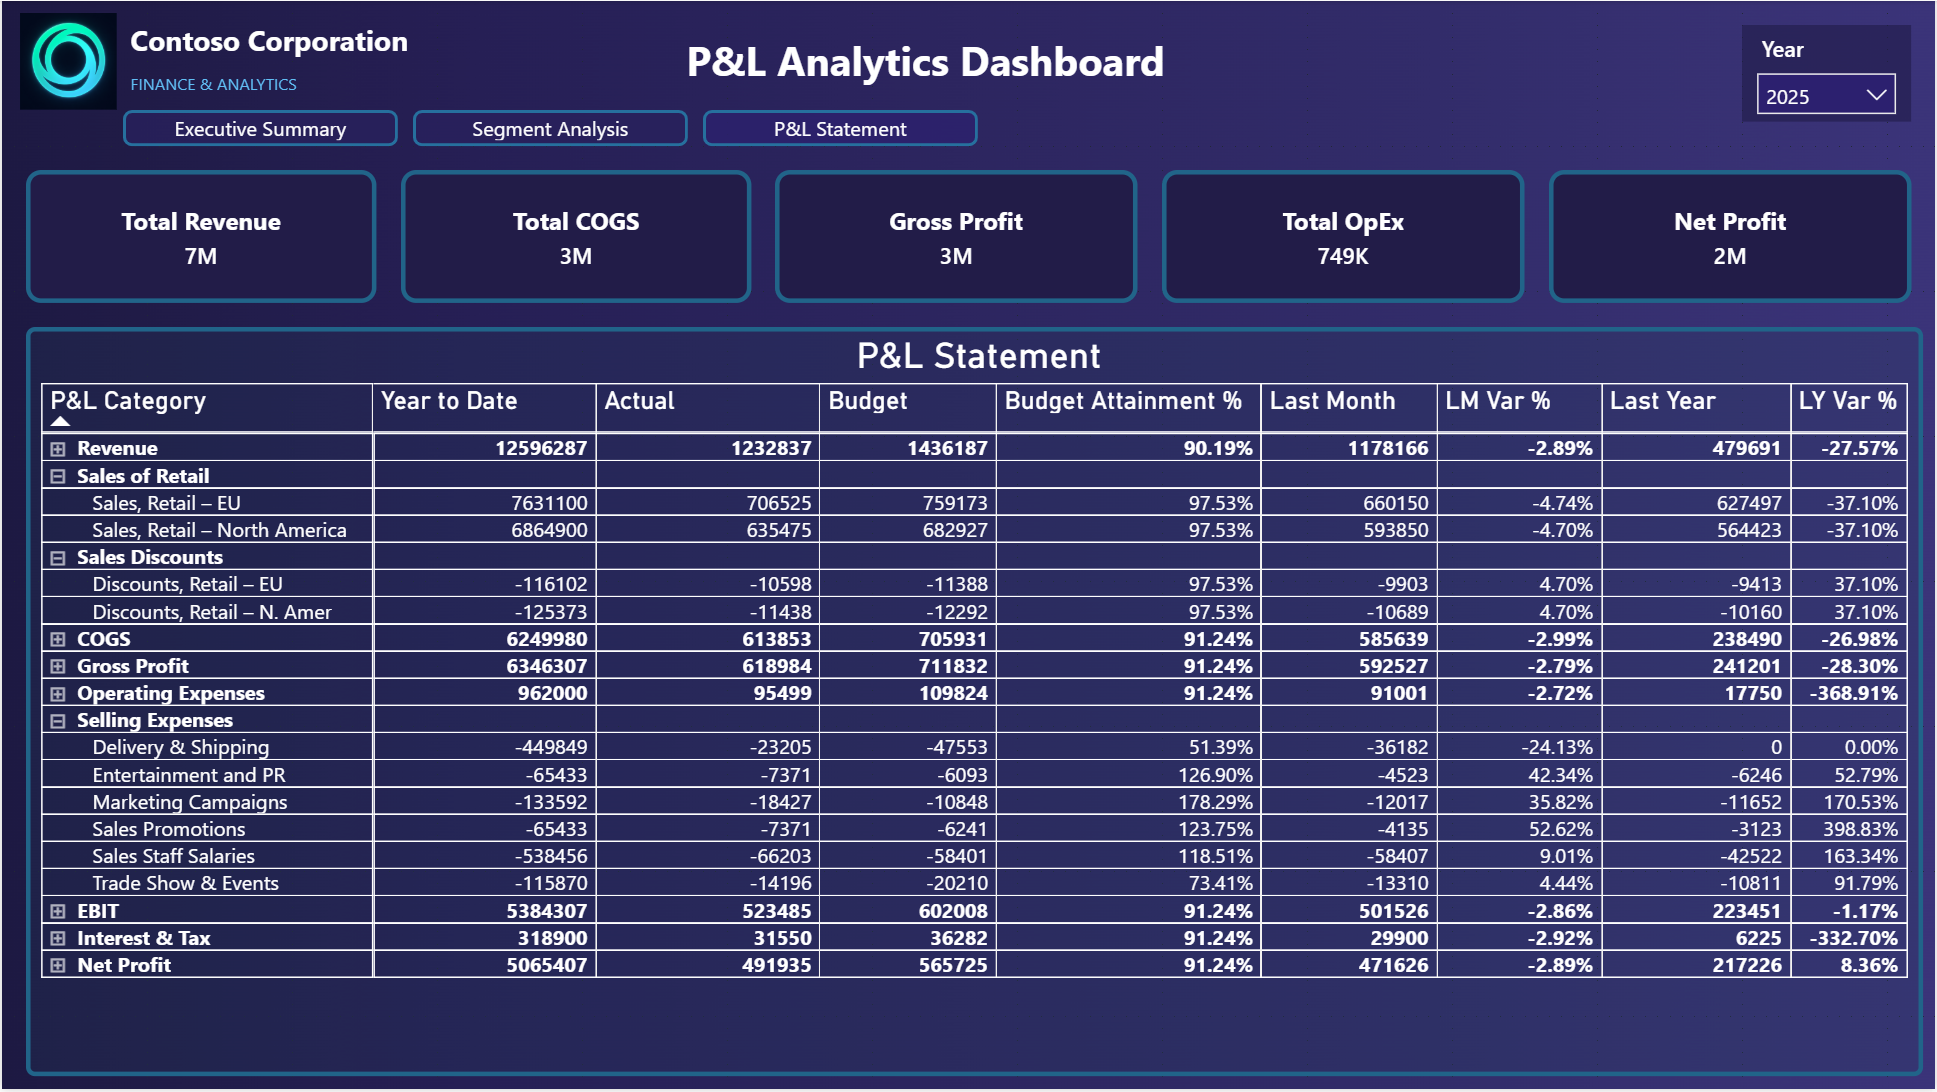

What the dashboard file says about the page in this screenshot:
{"tool":"powerbi","page":{"name":"P&L Statement","canvas":[1280,720],"ordinal":2},"visuals":[{"type":"slicer","fields":{"Values":["Monthly_PL.Year"]},"box":[1152,16,112,64],"z":0},{"type":"cardVisual","title":"Revenue","fields":{"Data":["_Measures.Total Revenue"]},"box":[16,112,232,88],"z":0},{"type":"cardVisual","title":"Revenue","fields":{"Data":["_Measures.Total COGS"]},"box":[264,112,232,88],"z":1000},{"type":"cardVisual","title":"Revenue","fields":{"Data":["_Measures.Gross Profit"]},"box":[512,112,240,88],"z":2000},{"type":"cardVisual","title":"Revenue","fields":{"Data":["_Measures.Total OpEx"]},"box":[768,112,240,88],"z":3000},{"type":"cardVisual","title":"Revenue","fields":{"Data":["_Measures.Net Profit"]},"box":[1024,112,240,88],"z":4000},{"type":"textbox","box":[448,16,336,48],"z":6000},{"type":"textbox","box":[80,8,216,40],"z":7000},{"type":"textbox","box":[80,40,216,32],"z":8000},{"type":"pivotTable","title":"P&L Statement","fields":{"Rows":["GL_Page3.Level_02","GL_Page3.Account_Name"],"Values":["Sum(GL_Page3.YTD_Actual)","Sum(GL_Page3.Monthly_Actual)","Sum(GL_Page3.Monthly_Budget)","Avg(GL_Page3.Budget_Ratio)","Sum(GL_Page3.Last_Month)","Sum(GL_Page3.LM_Var_%)","Sum(GL_Page3.Last_Year)","Sum(GL_Page3.LY_Var_%)"]},"box":[16,216,1256,496],"z":9000},{"type":"image","box":[8,8,72,64],"z":10000},{"type":"pageNavigator","box":[80,72,568,24],"z":11000}]}

Visuals, with their boxes in screenshot pixels (x1, y1, x2, y2), scaled from the page's 1280x720 canvas onto the 1937x1092 screenshot:
slicer - Monthly_PL.Year: <region>1743, 24, 1913, 121</region>
"Revenue" cardVisual: <region>24, 170, 375, 303</region>
"Revenue" cardVisual: <region>400, 170, 751, 303</region>
"Revenue" cardVisual: <region>775, 170, 1138, 303</region>
"Revenue" cardVisual: <region>1162, 170, 1525, 303</region>
"Revenue" cardVisual: <region>1550, 170, 1913, 303</region>
textbox: <region>678, 24, 1186, 97</region>
textbox: <region>121, 12, 448, 73</region>
textbox: <region>121, 61, 448, 109</region>
"P&L Statement" pivotTable: <region>24, 328, 1925, 1080</region>
image: <region>12, 12, 121, 109</region>
pageNavigator: <region>121, 109, 981, 146</region>
